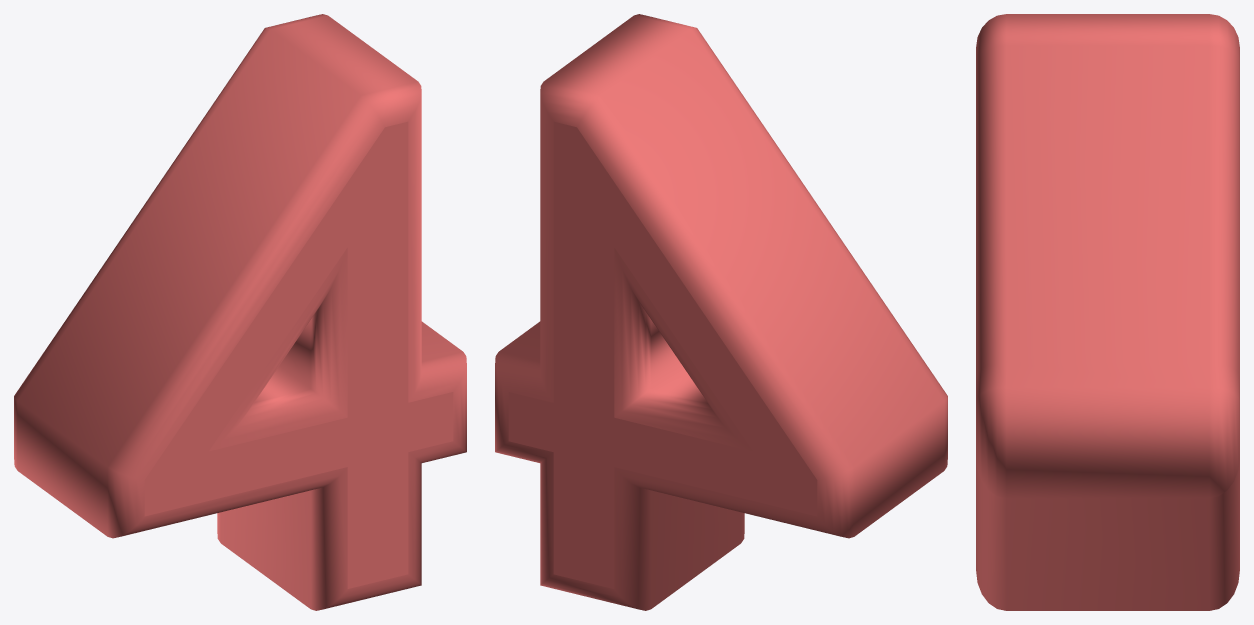
The picture shows the model from 3 angles, left to right: view 1: azimuth 30°, elevation 25°; view 2: azimuth 150°, elevation 25°; view 3: azimuth 270°, elevation 25°; orthographic projection. The views are drawn at different scales.
Parts seen in each view (by area): view 1: Text; view 2: Text; view 3: Text.
Part boxes in pixels (bbox=[...]): Text: bbox=[14, 14, 466, 610]; Text: bbox=[495, 14, 947, 610]; Text: bbox=[976, 14, 1239, 610].
Size of the model in its own units: 45.6 by 61.46 by 26.
